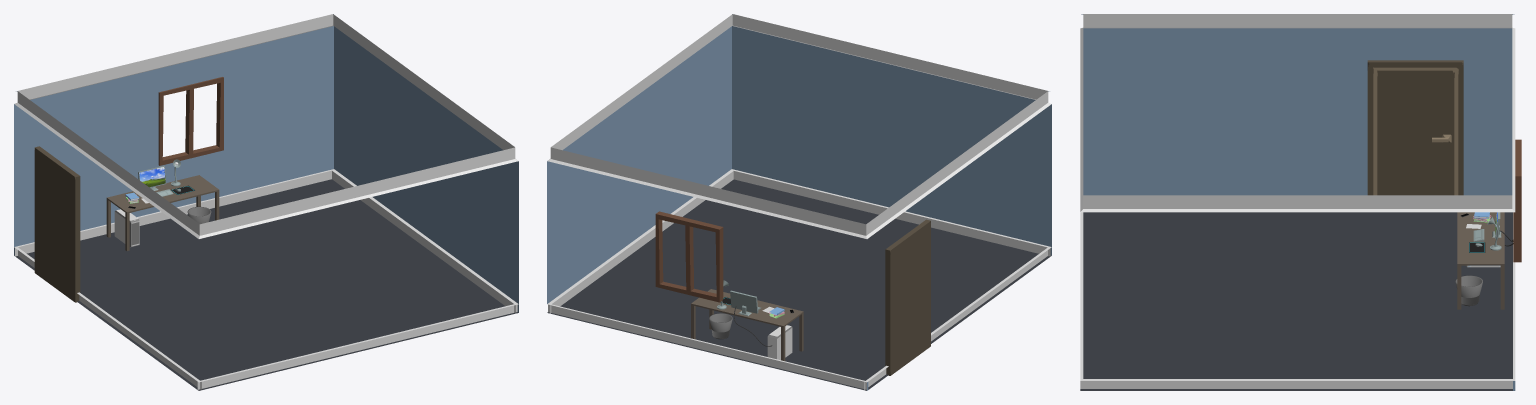
File: desk.glb
The picture shows the model from 3 angles, left to right: view 1: azimuth 30°, elevation 25°; view 2: azimuth 150°, elevation 25°; view 3: azimuth 270°, elevation 25°; orthographic projection. The views are drawn at different scales.
Visible parts, largest first — view 1: room, desk, pc tower, screen; view 2: room, desk, pc tower, screen, bin; view 3: room, desk, bin.
Part boxes in pixels (x1,y1,x2,y2): room: (14, 14, 518, 390); desk: (106, 175, 219, 250); pc tower: (114, 209, 139, 247); screen: (138, 165, 166, 190); room: (547, 14, 1051, 390); desk: (691, 289, 803, 361); pc tower: (767, 325, 792, 360); screen: (730, 290, 758, 315); bin: (709, 313, 732, 339); room: (1080, 14, 1521, 390); desk: (1457, 212, 1504, 309); bin: (1455, 275, 1482, 306).
Bounding box in the file's own units: 9.22 × 4.55 × 9.32.
Materials: 31 (1 with a texture image).
